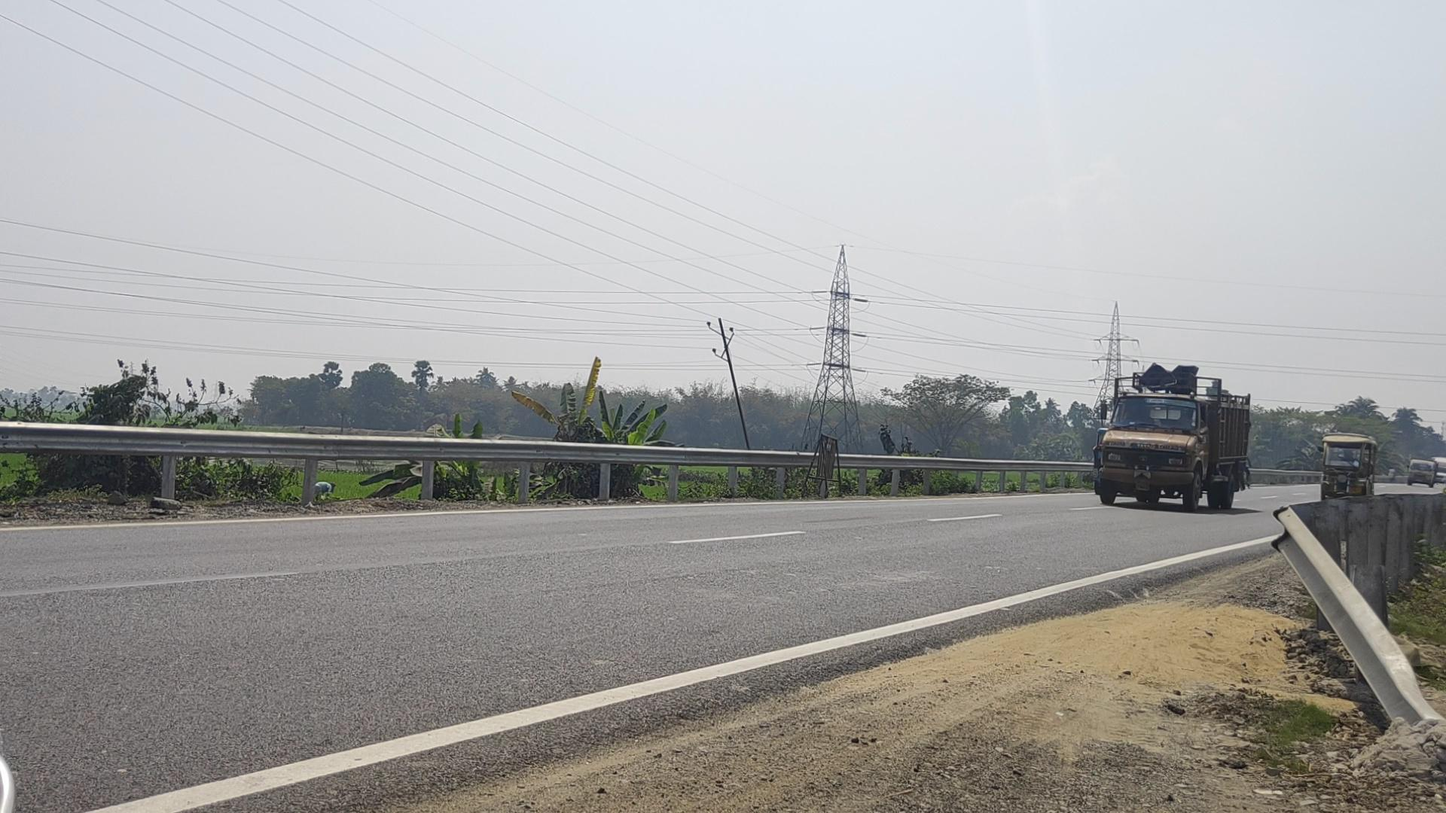Auto: (1318, 432, 1377, 507)
truck: (1099, 364, 1251, 513)
van: (1406, 457, 1438, 489)
